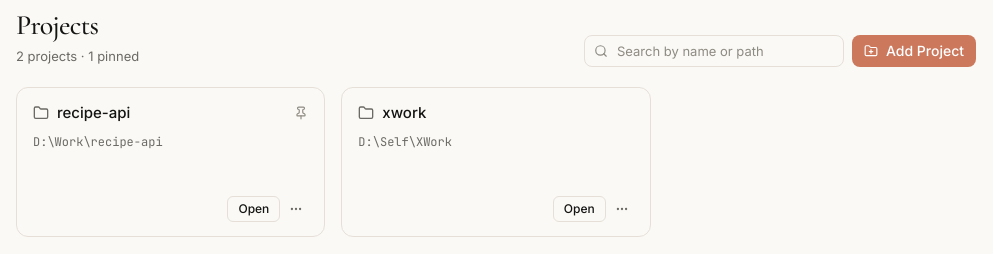
Scenario: ProjectsRoute search › sends one sanitized query after the quiet interval
The image size is (993, 254).
Check: the heading "xwork" is shown, box [382,102,426,122]
In the field named "Search projects by name or path": (714, 50) [584,34,844,66], type "  xw  "
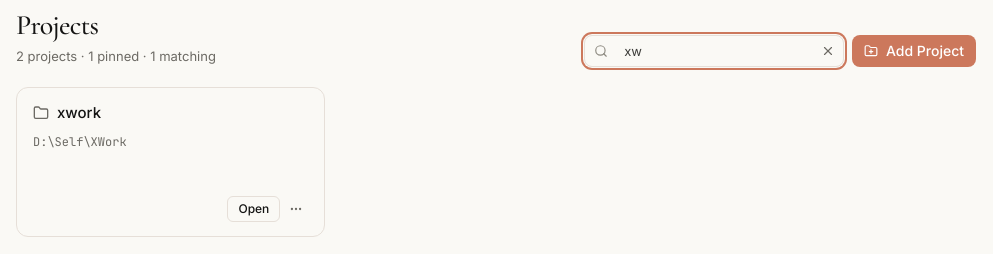
Check: the text "2 projects · 1 pinned · 1 matching" is shown, box [16,47,216,66]
